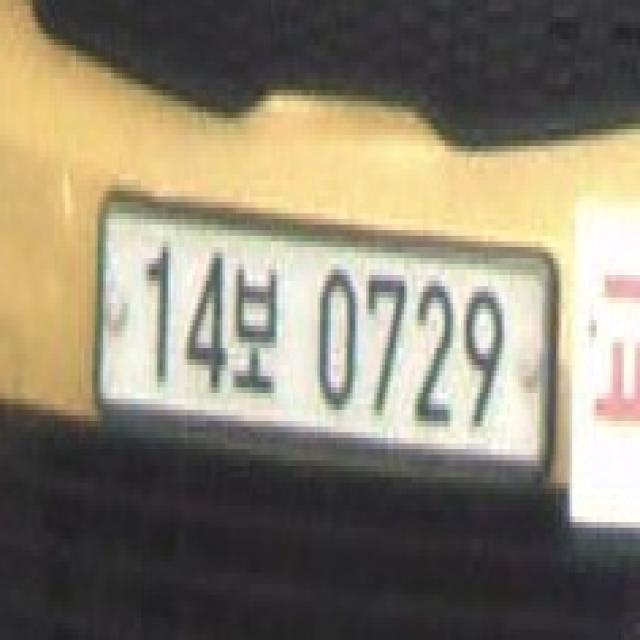0: (314, 253, 360, 421)
1: (136, 225, 182, 404)
2: (410, 269, 461, 438)
4: (184, 242, 230, 404)
7: (361, 258, 406, 427)
9: (461, 270, 513, 443)
bo: (230, 247, 284, 410)
license_plate: (86, 174, 558, 500)
